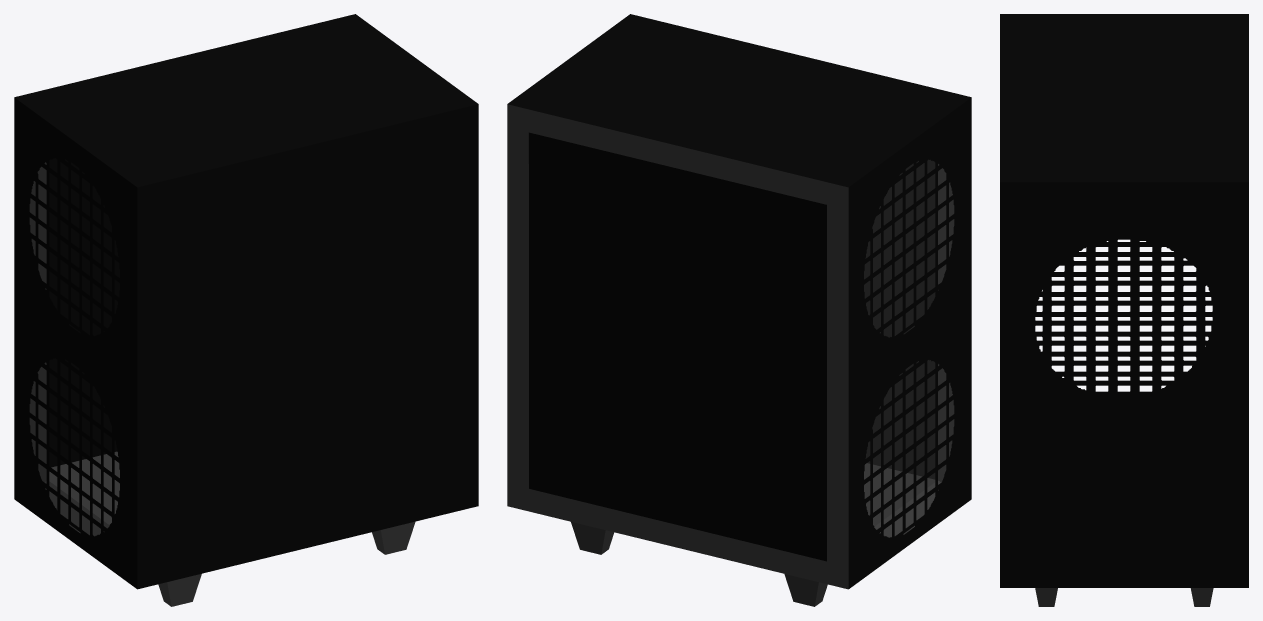
File: pc case.fbx
3 views of the same model, side by side, from view 1: azimuth 30°, elevation 25°; view 2: azimuth 150°, elevation 25°; view 3: azimuth 270°, elevation 25° (orthographic).
Parts seen in each view (by area): view 1: Cube; view 2: Cube; view 3: Cube.
Boxes of the visible parts, x1=… form: Cube: x1=14, y1=14, x2=478, y2=606; Cube: x1=507, y1=14, x2=971, y2=606; Cube: x1=1000, y1=14, x2=1248, y2=606.
Bounding box in the file's own units: 320 × 400 × 200.
Materials: 1 (1 with a texture image).
